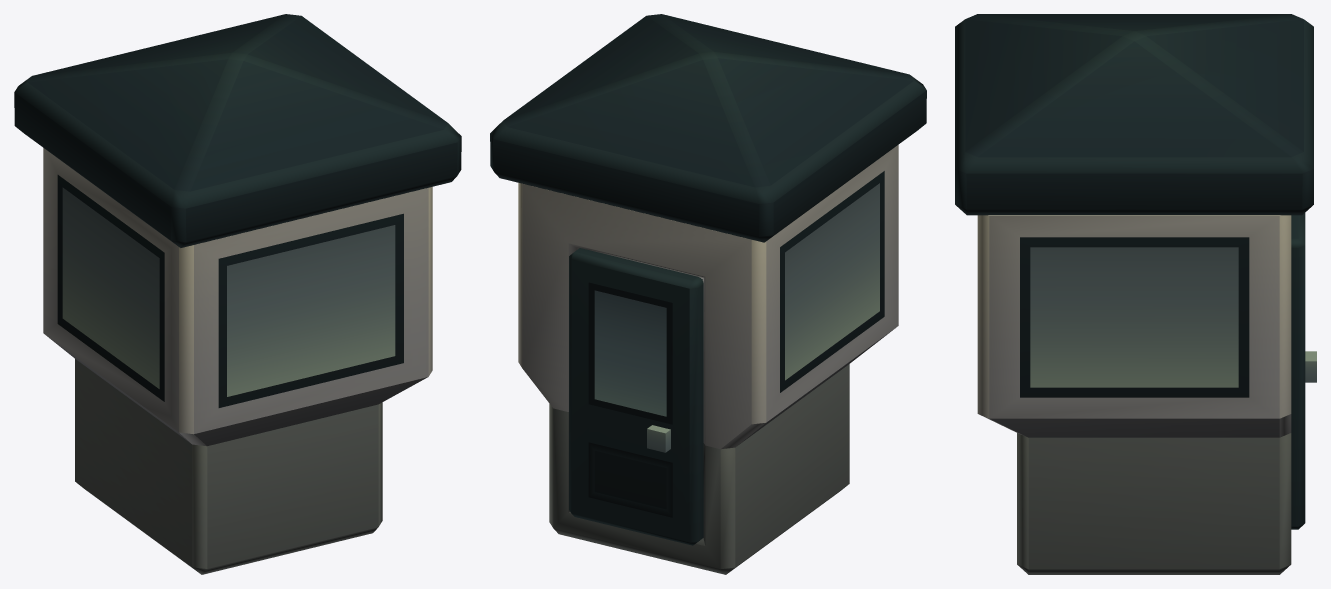
File: guard_house.fbx
3 views of the same model, side by side, from view 1: azimuth 30°, elevation 25°; view 2: azimuth 150°, elevation 25°; view 3: azimuth 270°, elevation 25° (orthographic). The views are drawn at different scales.
Parts seen in each view (by area): view 1: guard_house; view 2: guard_house, guard_house_door; view 3: guard_house, guard_house_door.
Part boxes in pixels (box(x1,y1,x2,y2)): guard_house: box(14, 14, 461, 574); guard_house: box(490, 14, 926, 574); guard_house_door: box(569, 248, 703, 545); guard_house: box(955, 14, 1313, 574); guard_house_door: box(1291, 213, 1316, 529).
Bounding box in the file's own units: 229 × 347 × 231.
